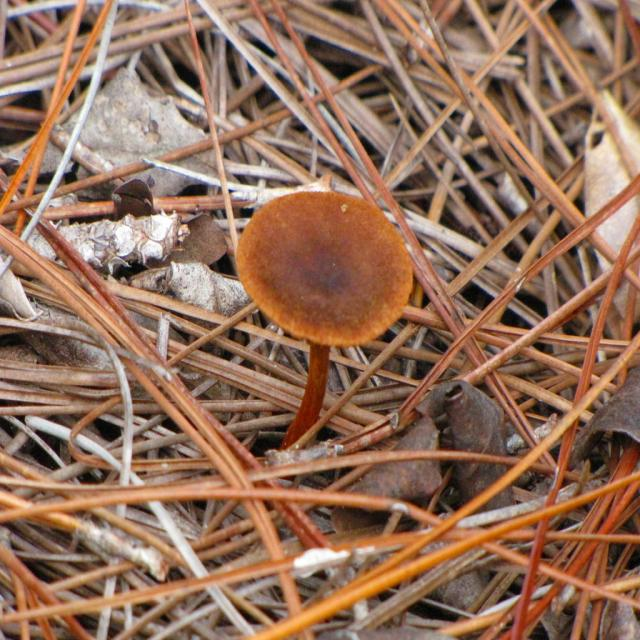Mushroom: (235, 184, 410, 450)
